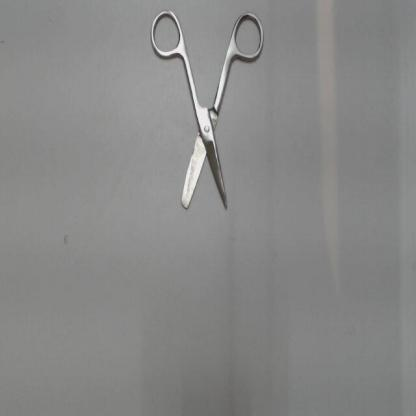Dressing Scissors: (140, 4, 273, 226)
